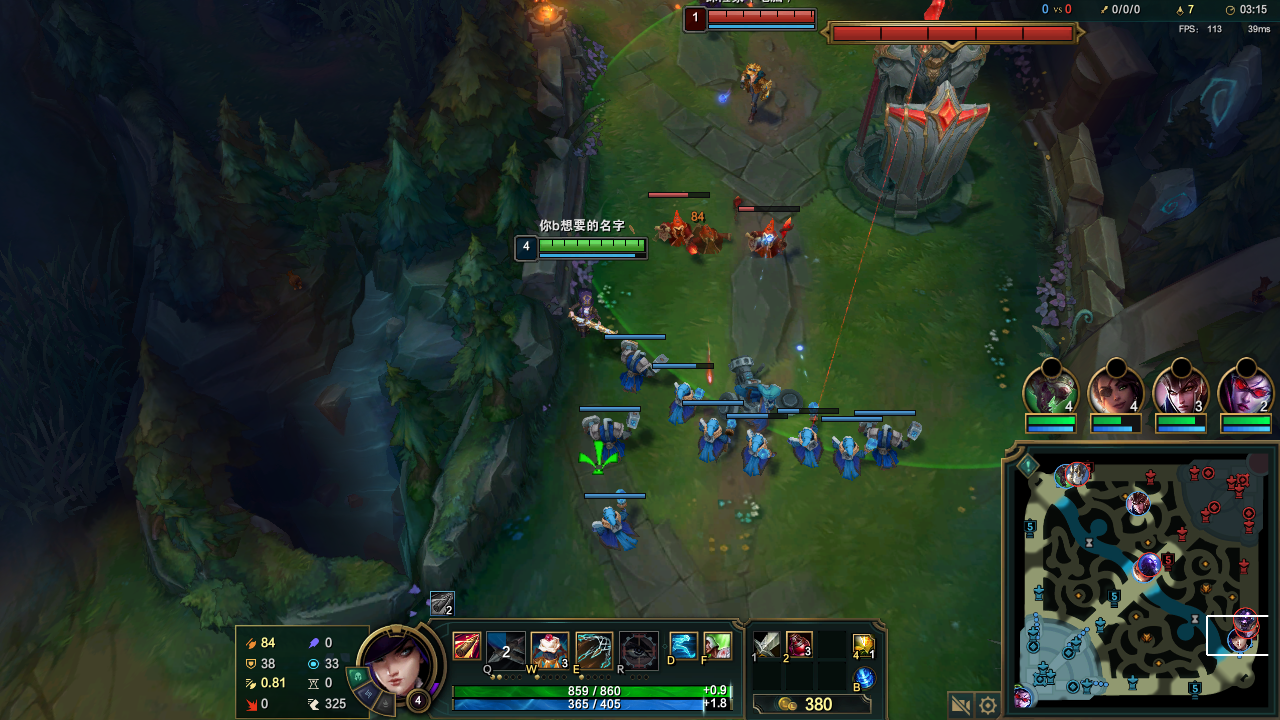DFFYT: (823, 23, 852, 44)
DFXB: (662, 212, 695, 251), (749, 224, 784, 251)
DFYX: (704, 10, 816, 24)
WFXB: (596, 499, 637, 547), (865, 428, 908, 472), (587, 416, 632, 457), (620, 342, 657, 385), (697, 415, 732, 452), (668, 383, 702, 421), (748, 431, 773, 469), (832, 441, 860, 473), (794, 427, 818, 464)
Yita: (1186, 673, 1204, 701)
